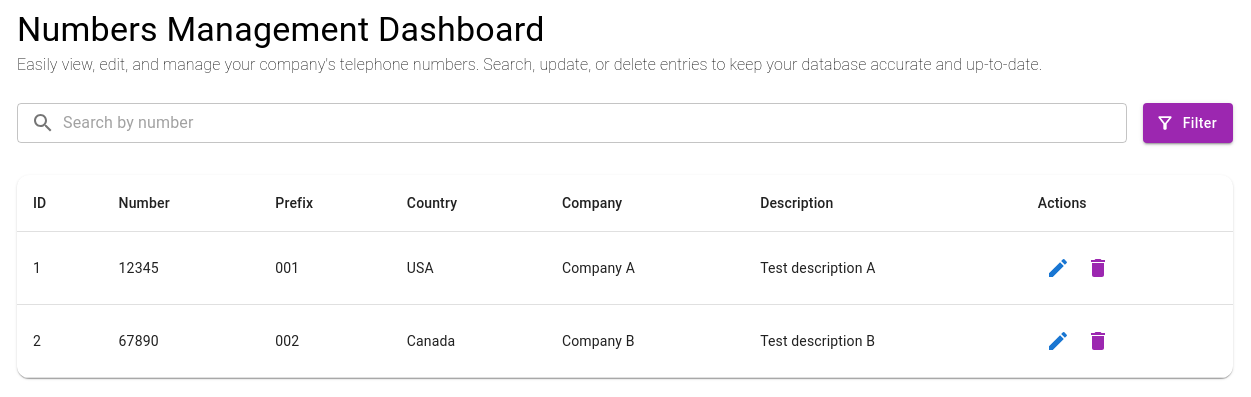
NumbersPage Component › should filter numbers based on search input
Step 1. Type "123" into the field with placeholder "Search by number" → (595, 123), box [63,103,1127,143]
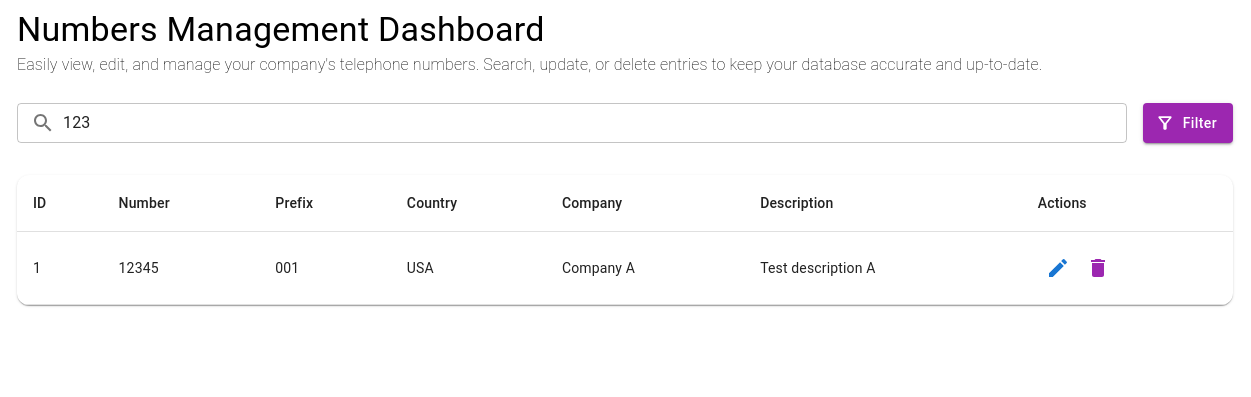
Expected: the text "12345" is shown, [103,232,259,304]
Expected: the text "67890" is gone
